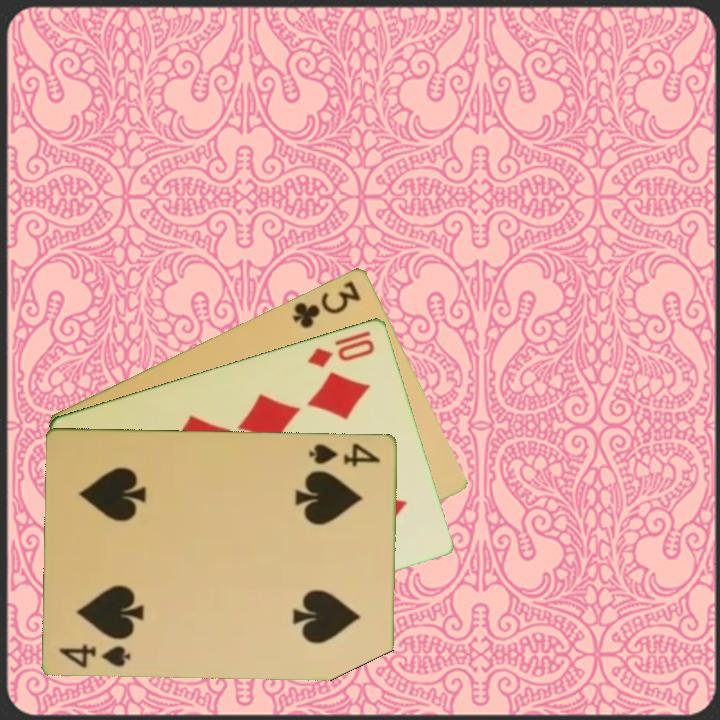10d: (303, 334, 378, 370)
3c: (288, 277, 364, 331)
4s: (305, 439, 384, 469), (56, 640, 134, 670)
